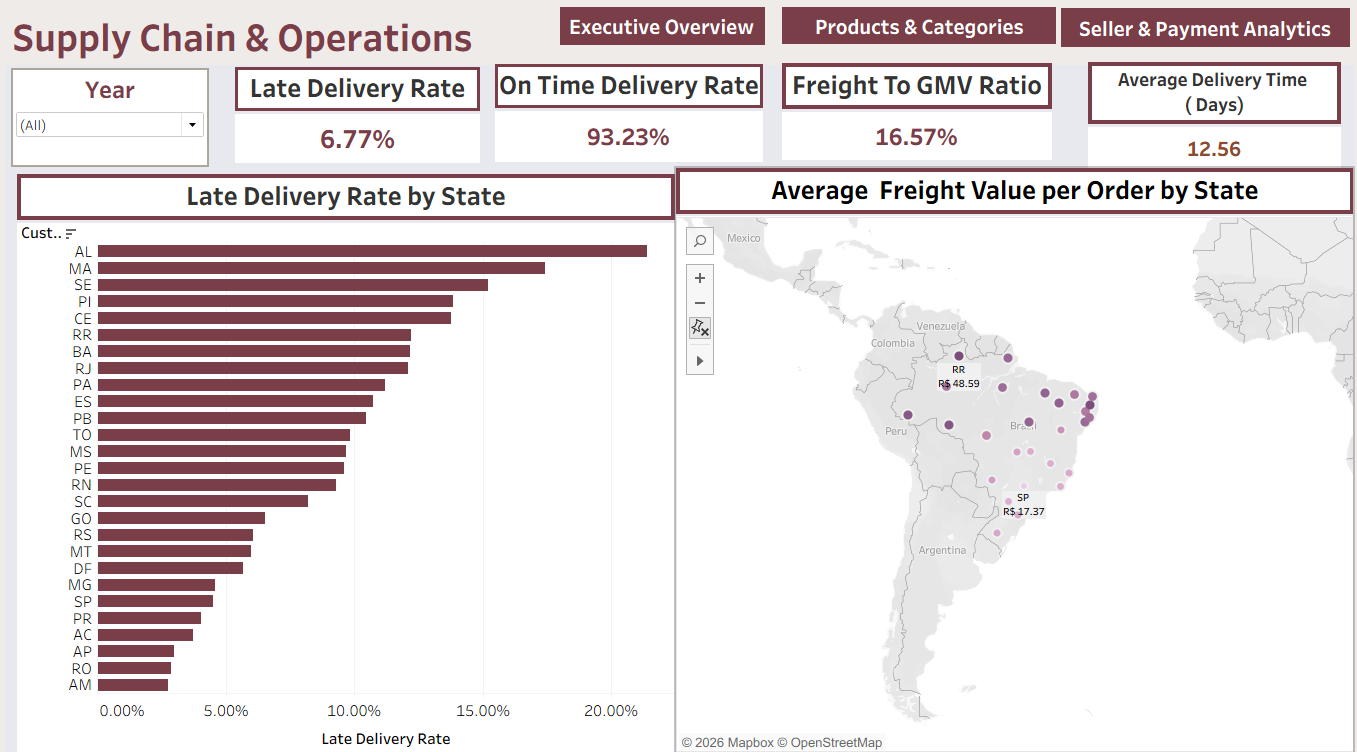

The page's visual inventory and layout, read from the dashboard file:
{"tool":"tableau","page":{"name":"Supply Chain & Operations","canvas":[1366,768],"ordinal":3},"visuals":[{"type":"title","box":[8,8,1350,58]},{"type":"dashboard-object","box":[563,8,205,38]},{"type":"dashboard-object","box":[785,8,274,37]},{"type":"dashboard-object","box":[1064,9,289,39]},{"type":"worksheet","title":"avg delivery time","mark":"Automatic","box":[1090.9,63.2,253,108.2]},{"type":"worksheet","title":"freight gmv price","mark":"Automatic","box":[785,64.2,270.3,96.7]},{"type":"worksheet","title":"on time delivery rate","mark":"Automatic","box":[498.3,65.1,268.4,97.7]},{"type":"worksheet","title":"late delivery rate","mark":"Automatic","box":[237.6,68,245.3,95.8]},{"type":"filter","title":"Late Delivery Rate by State","param":"[federated.1q6kqwk0jk3ke51gepjcd15al0q6].[yr:order_purchase_timestamp:ok]","box":[14.4,69,198.2,98.6]},{"type":"worksheet","title":"Average Freight Value by State ","mark":"Automatic","box":[679,169,678,585]},{"type":"worksheet","title":"Late Delivery Rate by State","mark":"Automatic","rows":["customer_state"],"cols":["Calculation_1105633758114562048"],"box":[20,175,658,582]}]}

Visuals, with their boxes in screenshot pixels (x1, y1, x2, y2), scaled from the page's 1366x768 canvas onto the 1357x752 screenshot:
title: detection(8, 8, 1349, 65)
dashboard-object: detection(559, 8, 763, 45)
dashboard-object: detection(780, 8, 1052, 44)
dashboard-object: detection(1057, 9, 1344, 47)
"avg delivery time" worksheet: detection(1084, 62, 1335, 168)
"freight gmv price" worksheet: detection(780, 63, 1048, 158)
"on time delivery rate" worksheet: detection(495, 64, 762, 159)
"late delivery rate" worksheet: detection(236, 67, 480, 160)
"Late Delivery Rate by State" filter: detection(14, 68, 211, 164)
"Average Freight Value by State " worksheet: detection(675, 165, 1348, 738)
"Late Delivery Rate by State" worksheet: detection(20, 171, 674, 741)
